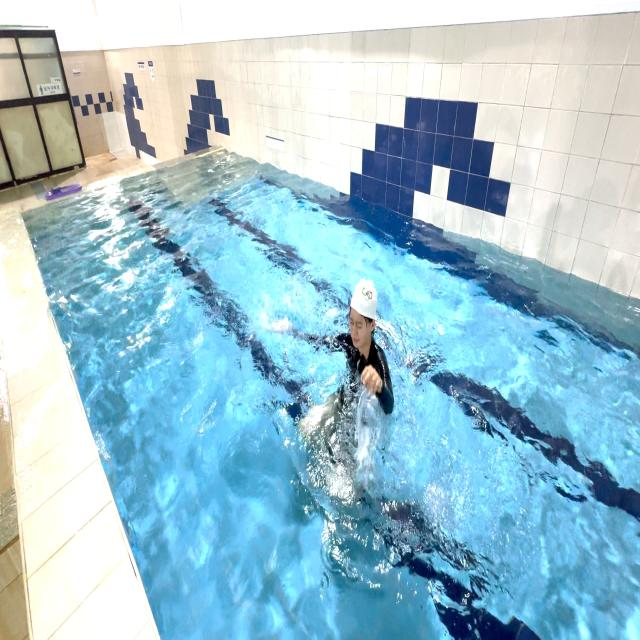Drowning: (286, 274, 394, 466)
